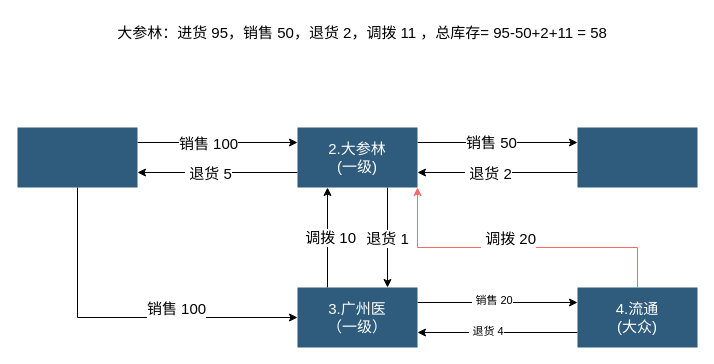
Image size: 714x364. Some labels were removed from this diagram. Each missing label, with the box of its shape:
1.丰安 (厂家）: (17, 127, 137, 187)
5.终端 (门店): (577, 127, 697, 187)
